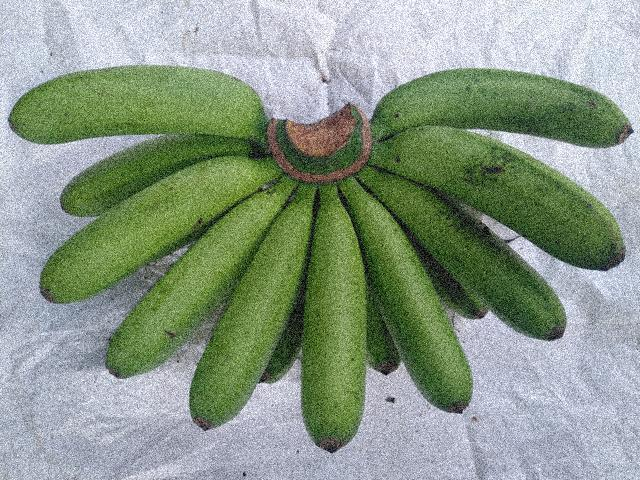unripe: (385, 96, 632, 281), (182, 177, 341, 450), (23, 149, 285, 295), (279, 151, 379, 475), (368, 51, 637, 143), (6, 53, 281, 138)
